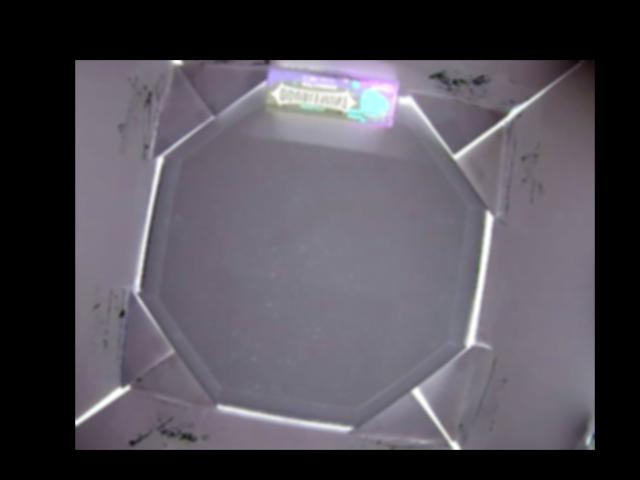Bottle: (265, 63, 397, 128)
